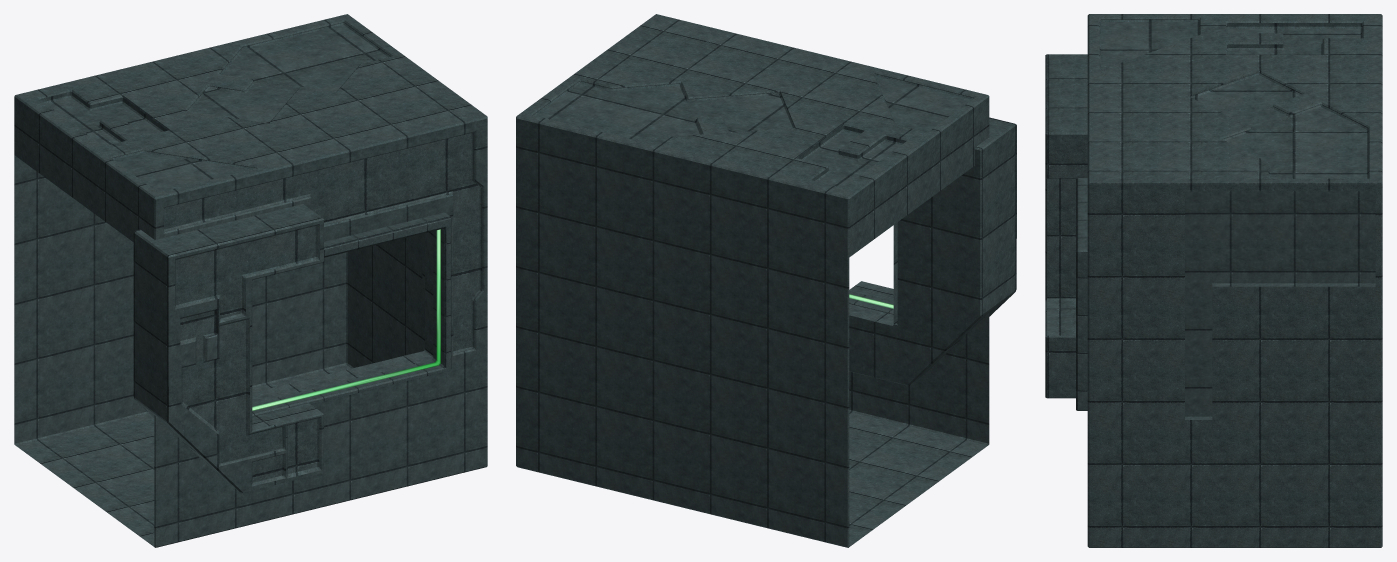
Rendered from EngineRemake_Exterior_ExtranceKEEPLOADED.fbx.
3 views of the same model, side by side, from view 1: azimuth 30°, elevation 25°; view 2: azimuth 150°, elevation 25°; view 3: azimuth 270°, elevation 25° (orthographic). The views are drawn at different scales.
Parts seen in each view (by area): view 1: Cube.10780, ExteriorPiece.029, Cube.10784; view 2: Cube.10780, ExteriorPiece.029, Cube.10784; view 3: Cube.10780, ExteriorPiece.029, Cube.10784.
Boxes of the visible parts, x1,y1,x2,y2 form: Cube.10780: (14,14,487,547); ExteriorPiece.029: (133,204,323,492); Cube.10784: (252,212,451,416); Cube.10780: (516,14,989,547); ExteriorPiece.029: (849,117,1016,385); Cube.10784: (849,291,893,314); Cube.10780: (1087,14,1382,547); ExteriorPiece.029: (1045,54,1087,398); Cube.10784: (1076,178,1087,410).
Bounding box in the file's own units: 2133 × 2101 × 1755.
Materials: 3 (2 with a texture image).
